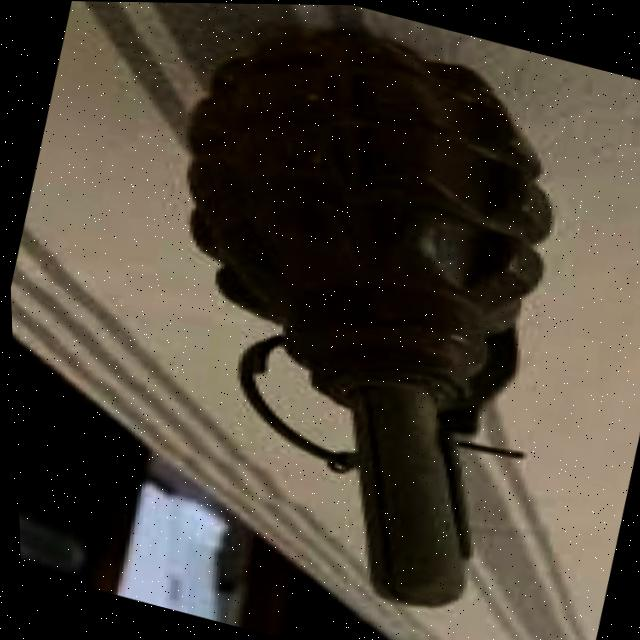grenade: (44, 1, 640, 640)
